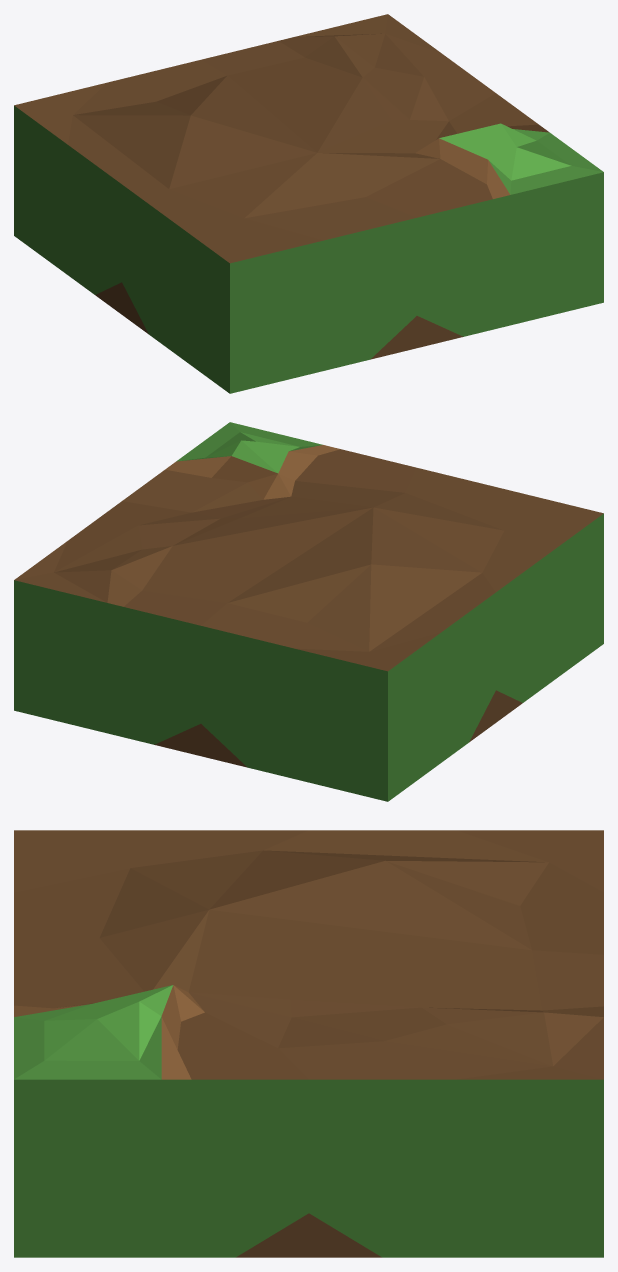
File: grass_dirt_corner_2.fbx
The picture shows the model from 3 angles, top to bottom: view 1: azimuth 30°, elevation 25°; view 2: azimuth 150°, elevation 25°; view 3: azimuth 270°, elevation 25°; orthographic projection. The views are drawn at different scales.
Parts seen in each view (by area): view 1: Dirt_Grass_Corner_2; view 2: Dirt_Grass_Corner_2; view 3: Dirt_Grass_Corner_2.
Part boxes in pixels (box(x1,y1,x2,y2)): Dirt_Grass_Corner_2: box(14, 14, 603, 393); Dirt_Grass_Corner_2: box(14, 422, 603, 801); Dirt_Grass_Corner_2: box(14, 830, 603, 1257).
Size of the model in its own units: 300 by 133 by 300.
